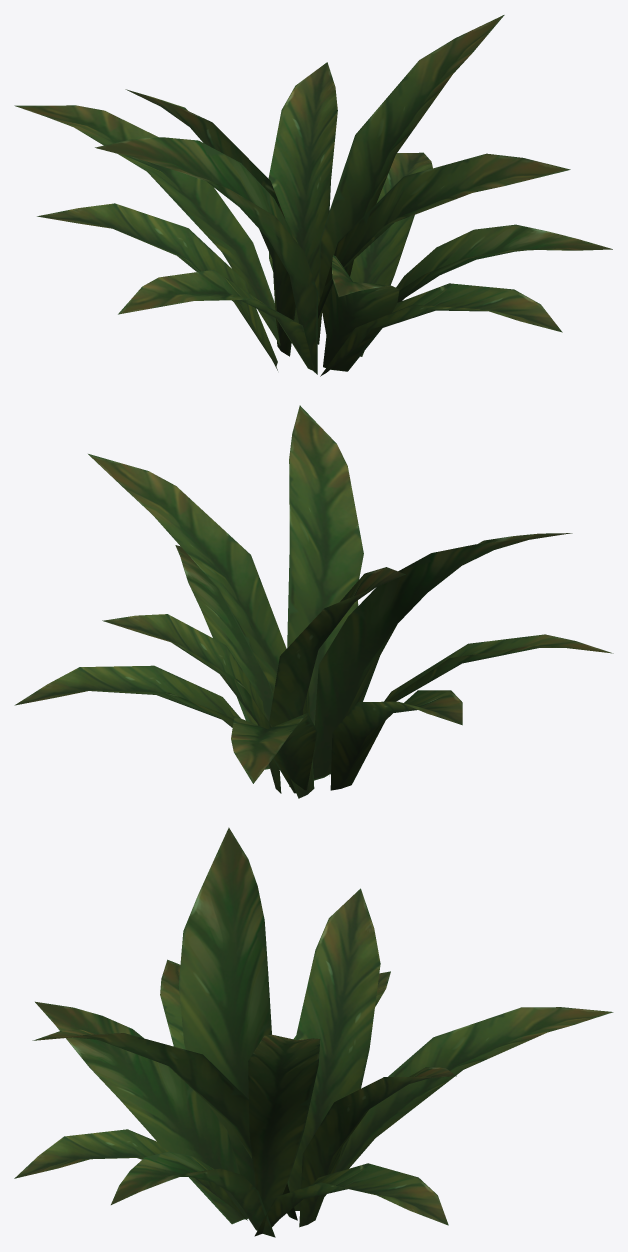
Rendered from Shrub_05.fbx.
The picture shows the model from 3 angles, top to bottom: view 1: azimuth 30°, elevation 25°; view 2: azimuth 150°, elevation 25°; view 3: azimuth 270°, elevation 25°; orthographic projection. The views are drawn at different scales.
Parts seen in each view (by area): view 1: Shrub_05; view 2: Shrub_05; view 3: Shrub_05.
Boxes of the visible parts, left/top/right/bottom form: Shrub_05: left=14, top=15, right=612, bottom=376; Shrub_05: left=14, top=405, right=613, bottom=798; Shrub_05: left=14, top=827, right=613, bottom=1237.
Bounding box in the file's own units: 3.41 × 2.01 × 3.94.
1 material, 1 textured.
